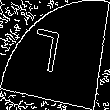L_S: (37, 27, 73, 83)
